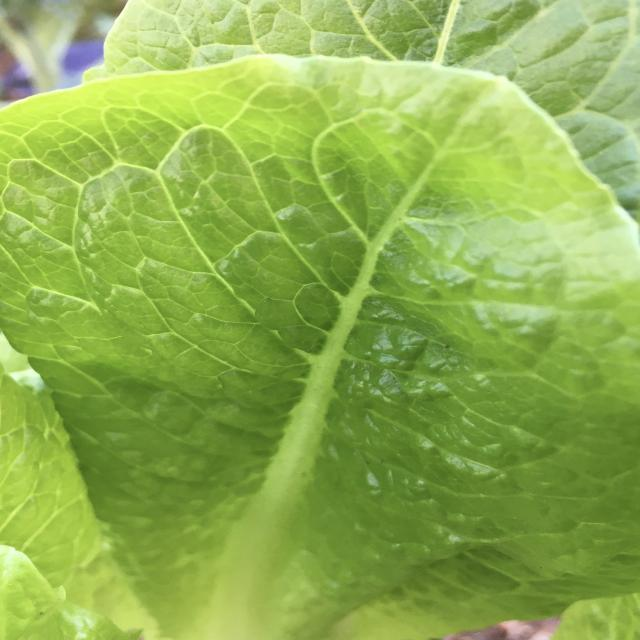Healthy Lettuce: (2, 49, 636, 635)
